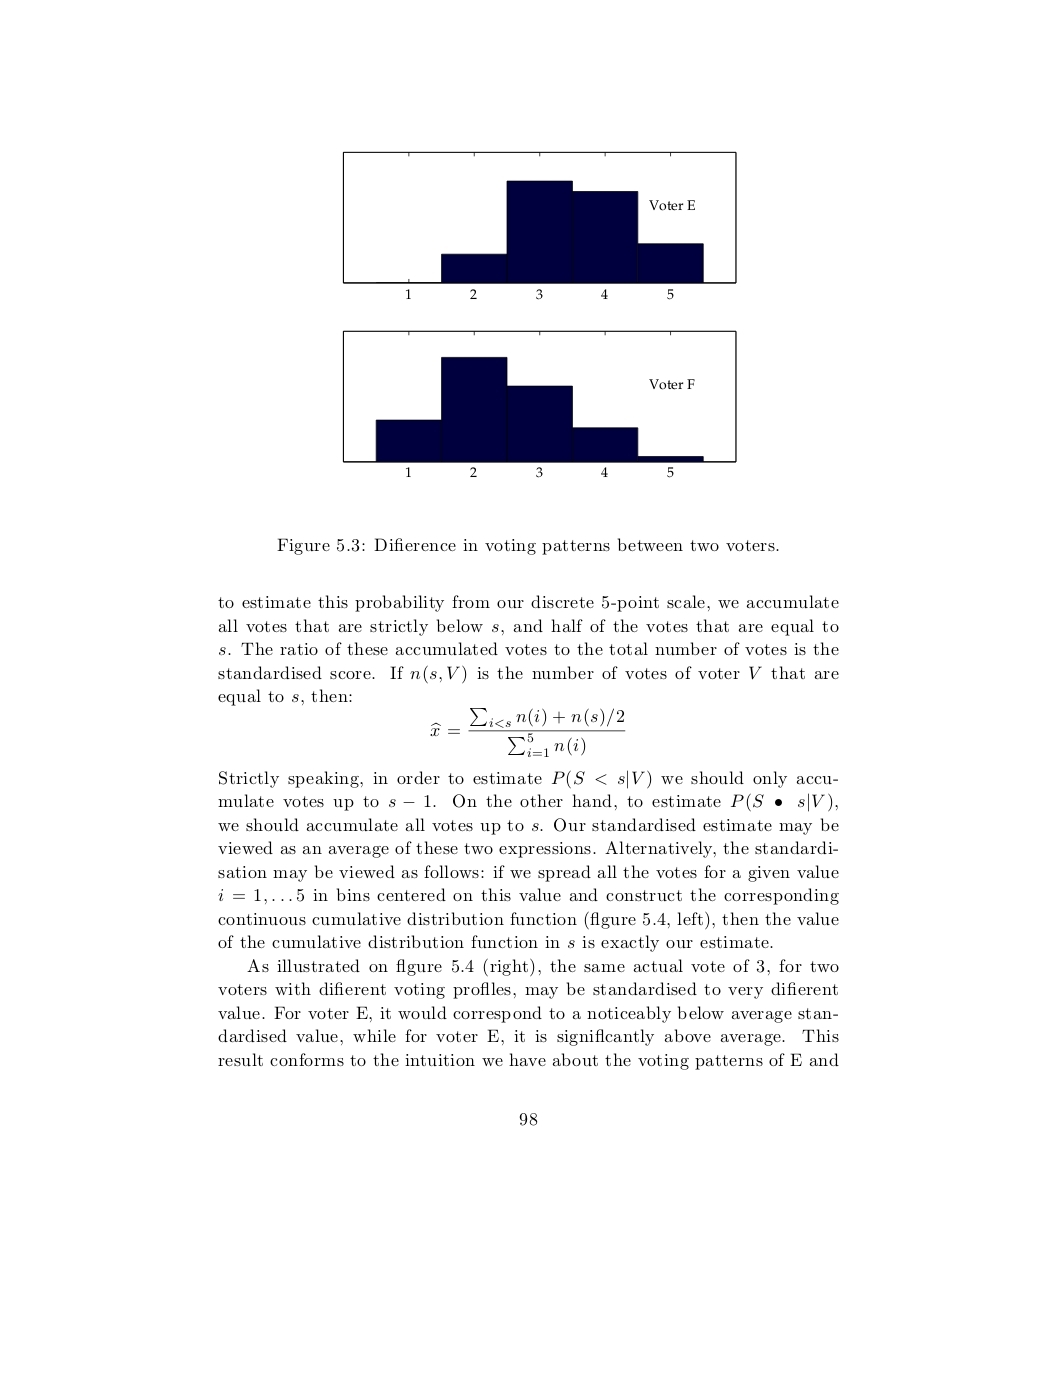figure: (342, 150, 736, 299), (342, 330, 736, 477)
formula: (430, 708, 625, 756)
